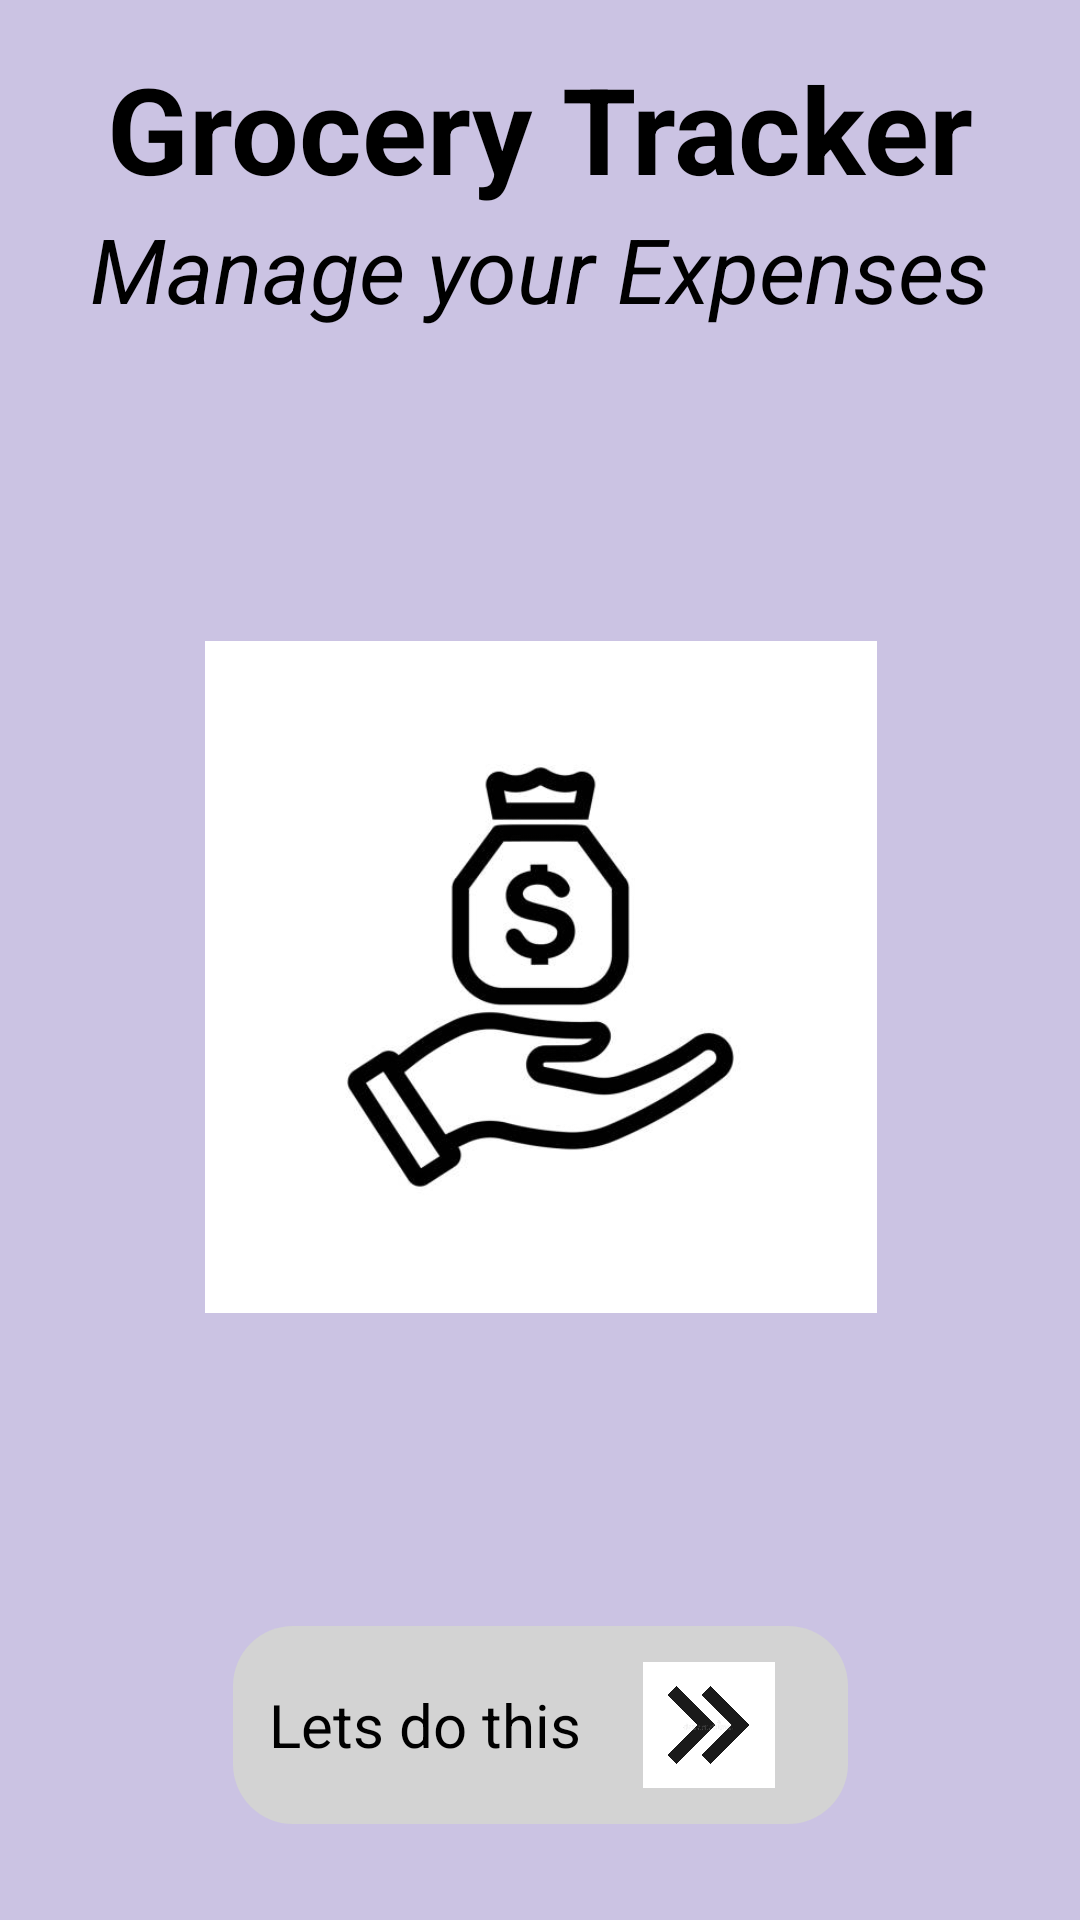

Where to tap for icons on this 1080 × 1920 app screen, as [x,y]:
Arrow Icon: [709,1725]
